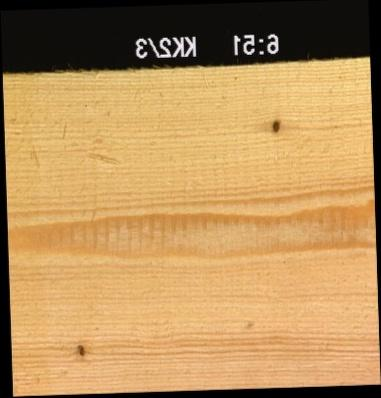dry_knot: (75, 340, 86, 356), (270, 117, 279, 133)
